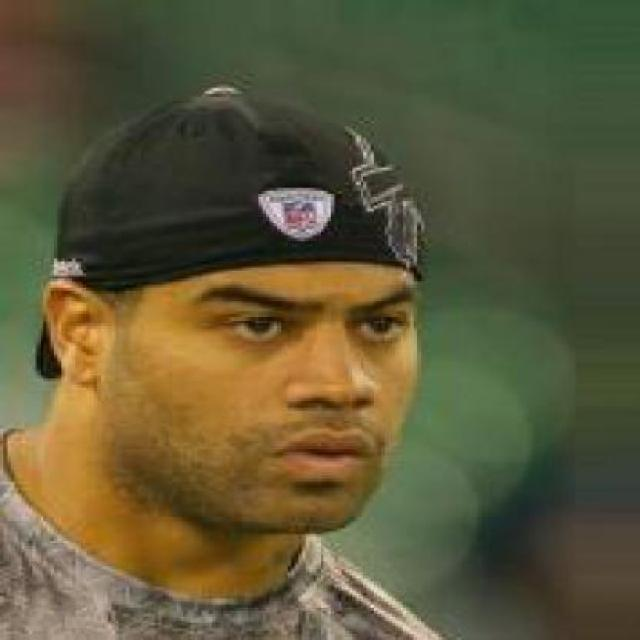closed-mouth: (265, 426, 383, 479)
